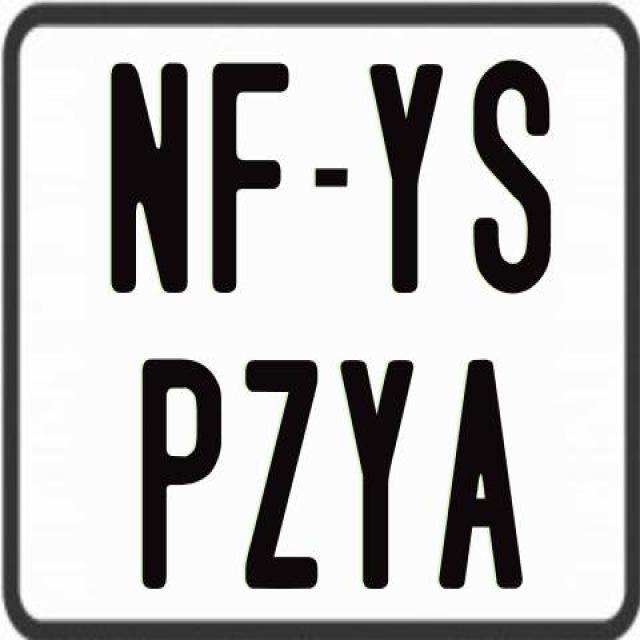A: (437, 357, 523, 589)
F: (209, 58, 291, 290)
N: (109, 58, 187, 296)
P: (141, 354, 220, 588)
S: (469, 58, 551, 299)
Y: (338, 360, 414, 598), (368, 59, 443, 290)
Z: (241, 356, 316, 588)
